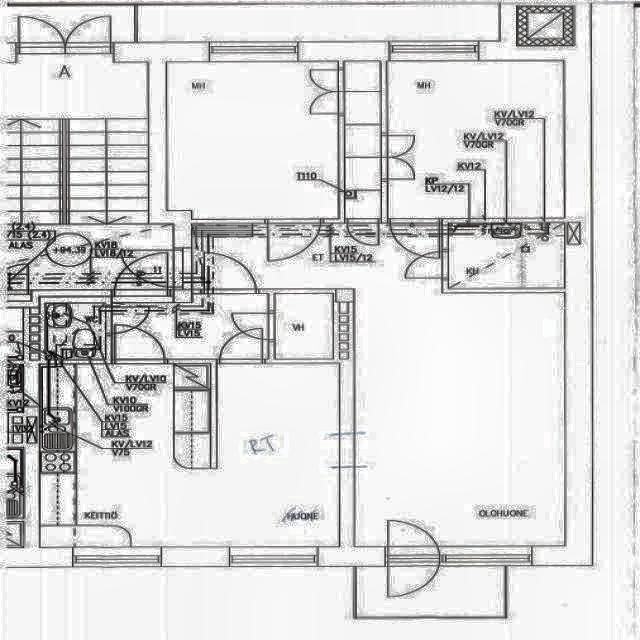room: (40, 363, 339, 547), (388, 62, 564, 218), (167, 62, 339, 219), (113, 294, 268, 359), (449, 223, 564, 288), (276, 294, 333, 359), (46, 303, 105, 360)
